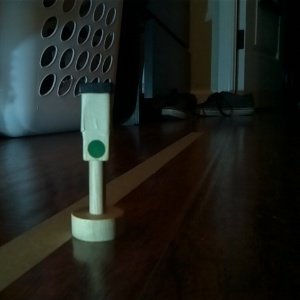traffic light green: (67, 79, 125, 244)
